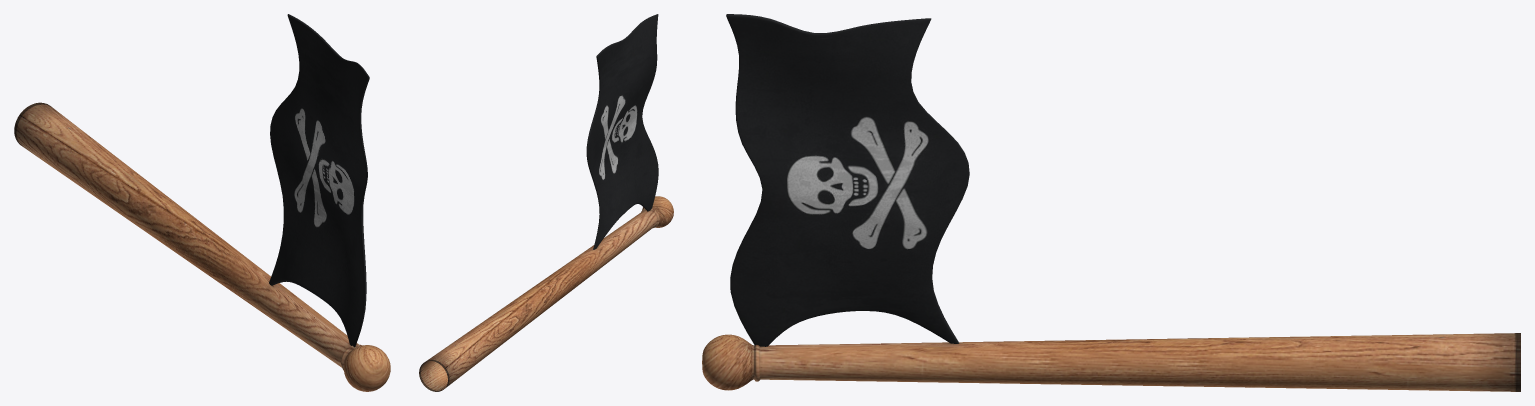
File: Flag.obj
The picture shows the model from 3 angles, left to right: view 1: azimuth 30°, elevation 25°; view 2: azimuth 150°, elevation 25°; view 3: azimuth 270°, elevation 25°; orthographic projection. The views are drawn at different scales.
Visible parts, largest first — view 1: flag; view 2: flag; view 3: flag.
Part boxes in pixels (x1,y1,x2,y2): flag: (14,14,390,391); flag: (419,14,673,391); flag: (702,14,1520,391).
Bounding box in the file's own units: 5.89 × 41.45 × 81.69.
1 material, 1 textured.
